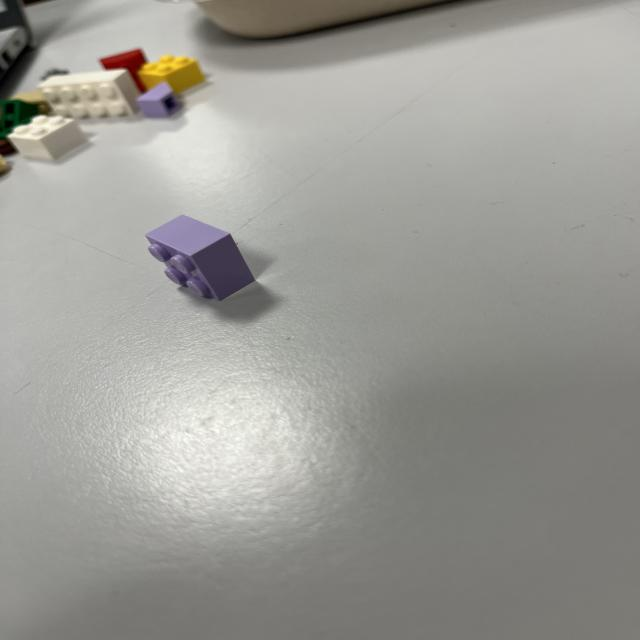C2x2x1: (144, 213, 256, 302)
